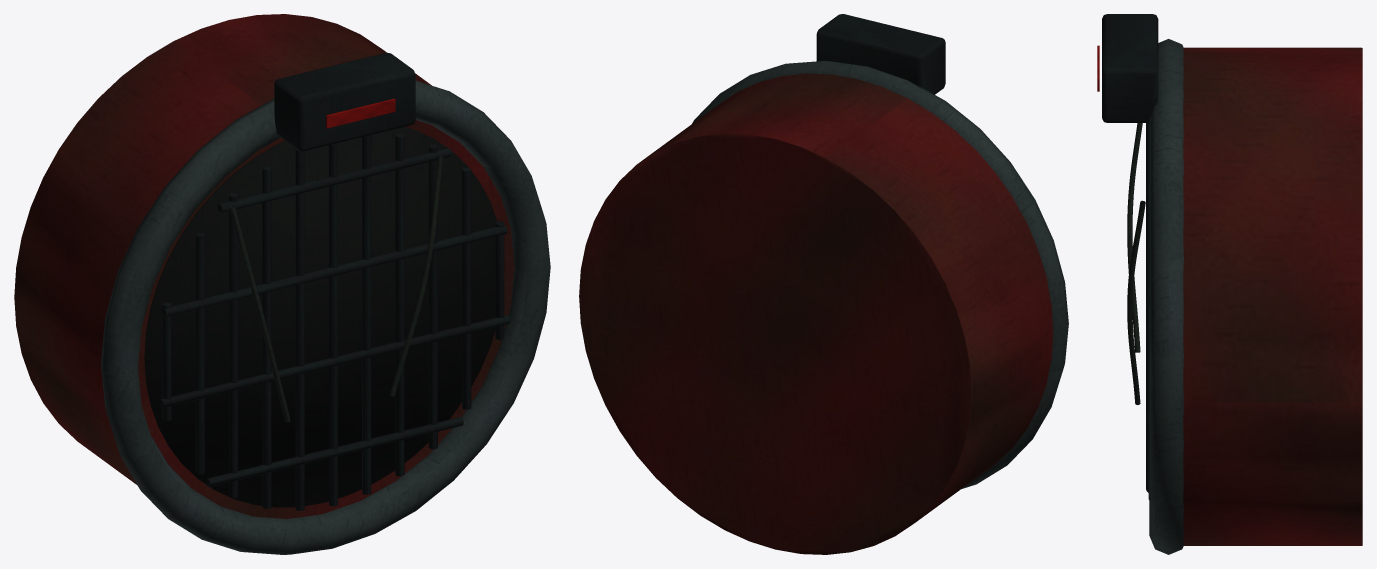
Rendered from IntakeFilter.glb.
3 views of the same model, side by side, from view 1: azimuth 30°, elevation 25°; view 2: azimuth 150°, elevation 25°; view 3: azimuth 270°, elevation 25° (orthographic). The views are drawn at different scales.
Visible parts, largest first — view 1: VIS_Rubber, VIS_RustSteel, VIS_CastIron, VIS_WetSteel, VIS_DirtyCanvas, VIS_HazardRed; view 2: VIS_RustSteel, VIS_WetSteel, VIS_CastIron; view 3: VIS_RustSteel, VIS_WetSteel, VIS_CastIron, VIS_DirtyCanvas.
Part boxes in pixels (x1=…): VIS_Rubber: x1=144, y1=127, x2=497, y2=507; VIS_RustSteel: x1=14, y1=14, x2=514, y2=518; VIS_CastIron: x1=159, y1=52, x2=510, y2=510; VIS_WetSteel: x1=101, y1=81, x2=550, y2=554; VIS_DirtyCanvas: x1=229, y1=155, x2=443, y2=422; VIS_HazardRed: x1=326, y1=98, x2=395, y2=128; VIS_RustSteel: x1=579, y1=73, x2=1053, y2=554; VIS_WetSteel: x1=692, y1=61, x2=1068, y2=488; VIS_CastIron: x1=816, y1=14, x2=945, y2=94; VIS_RustSteel: x1=1183, y1=47, x2=1362, y2=545; VIS_WetSteel: x1=1149, y1=39, x2=1183, y2=554; VIS_CastIron: x1=1102, y1=14, x2=1158, y2=499; VIS_DirtyCanvas: x1=1127, y1=123, x2=1145, y2=404.
Size of the model in its own units: 2.01 by 2.1 by 1.03.
Materials: 6 (6 with a texture image).
